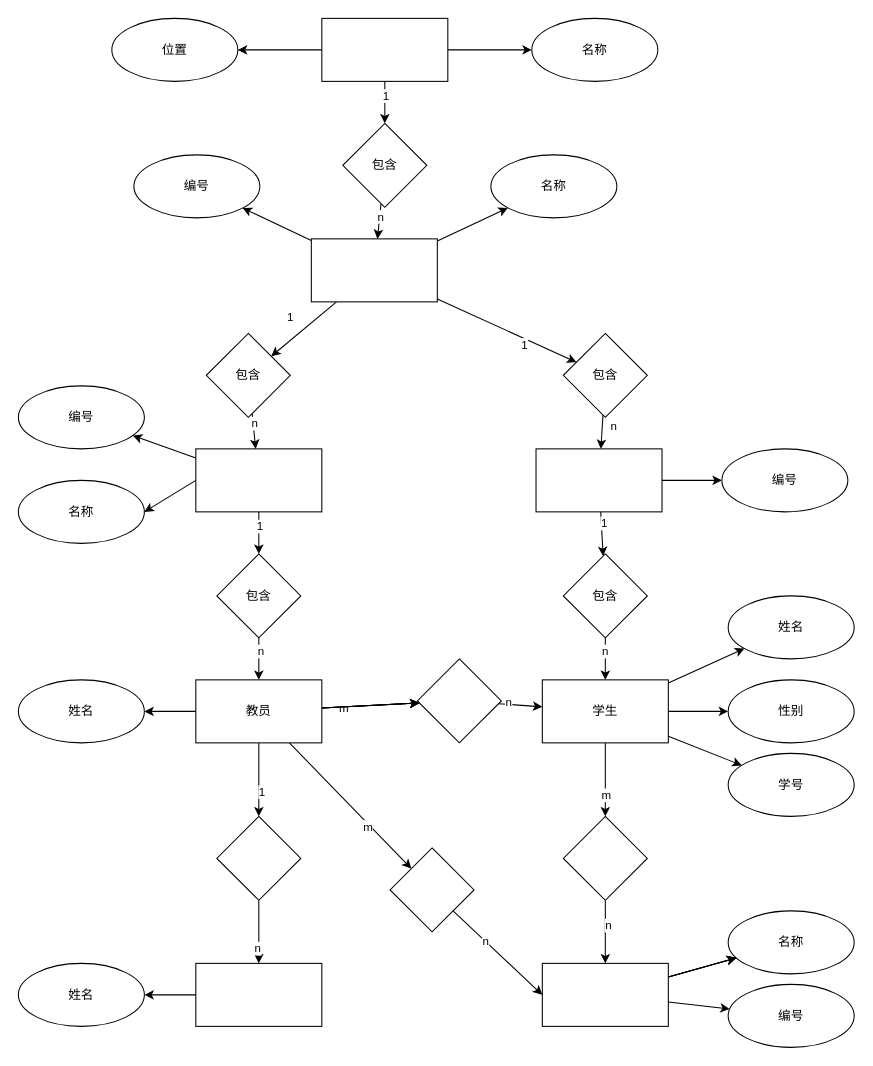
This 873x1066 diagram has some shape labels left out. The shapes that lost their labels are listed below. From the top down, each one's centre as x and y in pixels, then its label:
At (384,49): "学校".
At (373,270): "院系".
At (258,480): "教研室".
At (598,480): "班级".
At (458,700): "指导".
At (258,857): "带领".
At (604,857): "选修".
At (431,889): "教授".
At (258,994): "研究生".
At (604,994): "课程".
